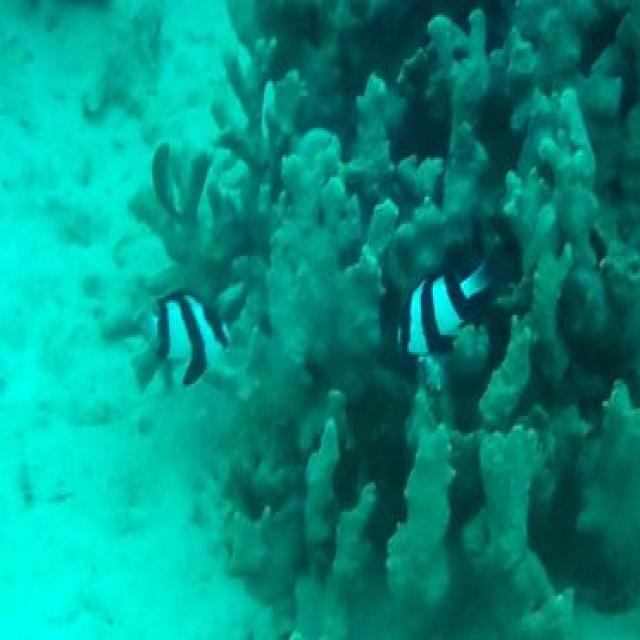ThreeStripedDamselfish: (394, 254, 494, 374), (136, 290, 232, 390)
